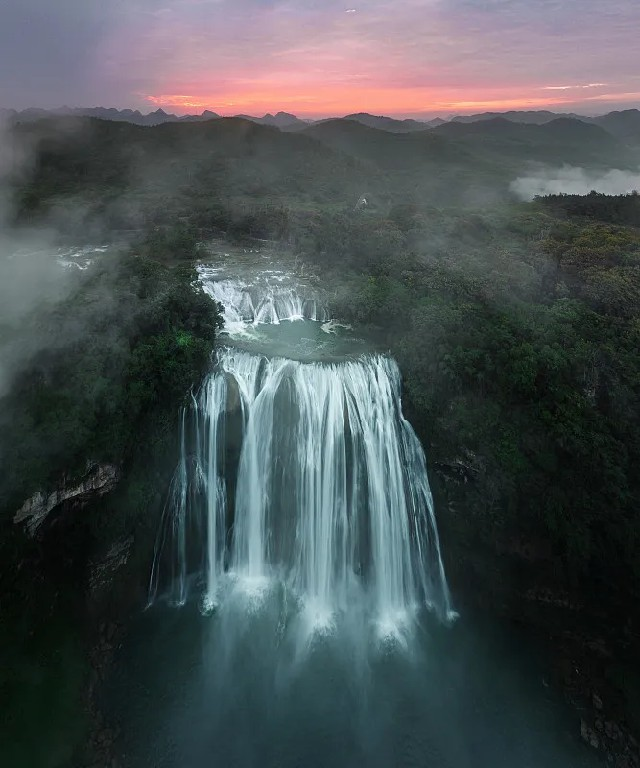Huangguoshu: (171, 287, 455, 616)
